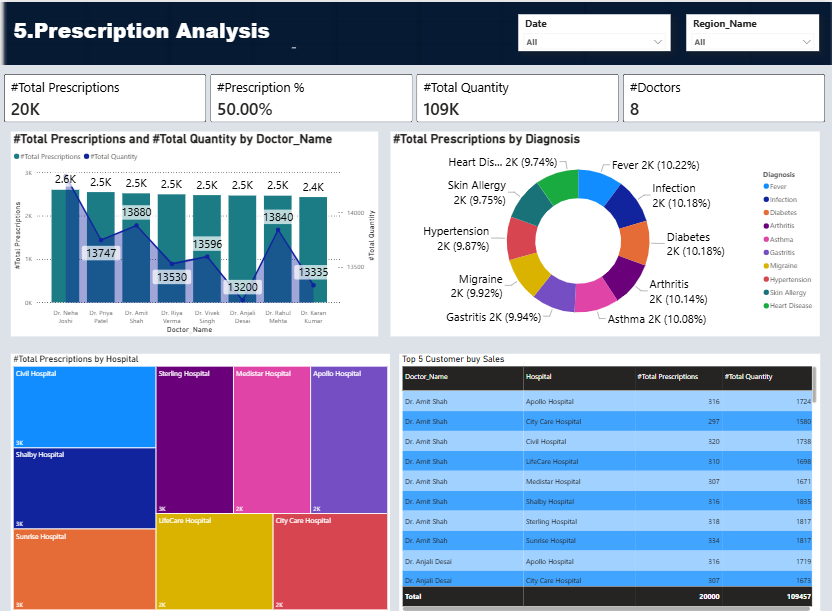

The page's visual inventory and layout, read from the dashboard file:
{"tool":"powerbi","page":{"name":"5. Prescription Analysis","canvas":[1600,1200],"ordinal":5},"visuals":[{"type":"image","box":[0,0,1600,120],"z":0},{"type":"textbox","title":"5.Prescription Analysis","box":[30,26.7,548.3,66.7],"z":1000},{"type":"slicer","fields":{"Values":["Dim_Date_Clean.Date"]},"box":[996.7,23.3,290,70],"z":2000},{"type":"slicer","fields":{"Values":["Dim_Region.Region_Name"]},"box":[1316.7,23.3,253.3,70],"z":3000},{"type":"cardVisual","fields":{"Data":["Fact_Prescription_Clean.#Total Prescriptions","Fact_Prescription_Clean.Prescription %","Fact_Prescription_Clean.#Total Quantity","Fact_Prescription_Clean.#Doctors"]},"box":[0,120,1600,126.7],"z":4000},{"type":"lineStackedColumnComboChart","fields":{"Category":["Fact_Prescription_Clean.Doctor_Name"],"Y":["Fact_Prescription_Clean.#Total Prescriptions"],"Y2":["Fact_Prescription_Clean.#Total Quantity"]},"box":[30,247.5,700,390],"z":5000},{"type":"treemap","fields":{"Group":["Fact_Prescription_Clean.Hospital"],"Values":["Fact_Prescription_Clean.#Total Prescriptions"]},"box":[30,670,722.5,492.5],"z":6000},{"type":"donutChart","fields":{"Category":["Fact_Prescription_Clean.Diagnosis"],"Y":["Fact_Prescription_Clean.#Total Prescriptions"]},"box":[752.5,247.5,817.5,390],"z":8000},{"type":"tableEx","title":"Top 5 Customer buy Sales","fields":{"Values":["Fact_Prescription_Clean.Doctor_Name","Fact_Prescription_Clean.Hospital","Fact_Prescription_Clean.#Total Prescriptions","Fact_Prescription_Clean.#Total Quantity"]},"box":[770,670,800,495],"z":9000}]}

Visuals, with their boxes in screenshot pixels (x1, y1, x2, y2), scaled from the page's 1600x1200 canvas onto the 832x611 screenshot:
image: bbox(0, 0, 831, 61)
"5.Prescription Analysis" textbox: bbox(16, 14, 301, 48)
slicer - Dim_Date_Clean.Date: bbox(518, 12, 669, 48)
slicer - Dim_Region.Region_Name: bbox(685, 12, 816, 48)
cardVisual - Fact_Prescription_Clean.#Total Prescriptions x Fact_Prescription_Clean.Prescription %: bbox(0, 61, 831, 126)
lineStackedColumnComboChart - Fact_Prescription_Clean.Doctor_Name x Fact_Prescription_Clean.#Total Prescriptions: bbox(16, 126, 380, 325)
treemap - Fact_Prescription_Clean.Hospital x Fact_Prescription_Clean.#Total Prescriptions: bbox(16, 341, 391, 592)
donutChart - Fact_Prescription_Clean.Diagnosis x Fact_Prescription_Clean.#Total Prescriptions: bbox(391, 126, 816, 325)
"Top 5 Customer buy Sales" tableEx: bbox(400, 341, 816, 593)
